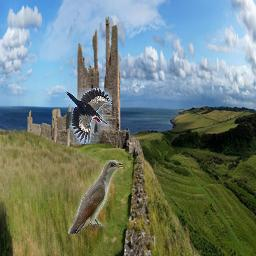Cuckoo: (69, 160, 124, 234)
Woodpecker: (66, 88, 113, 144)
